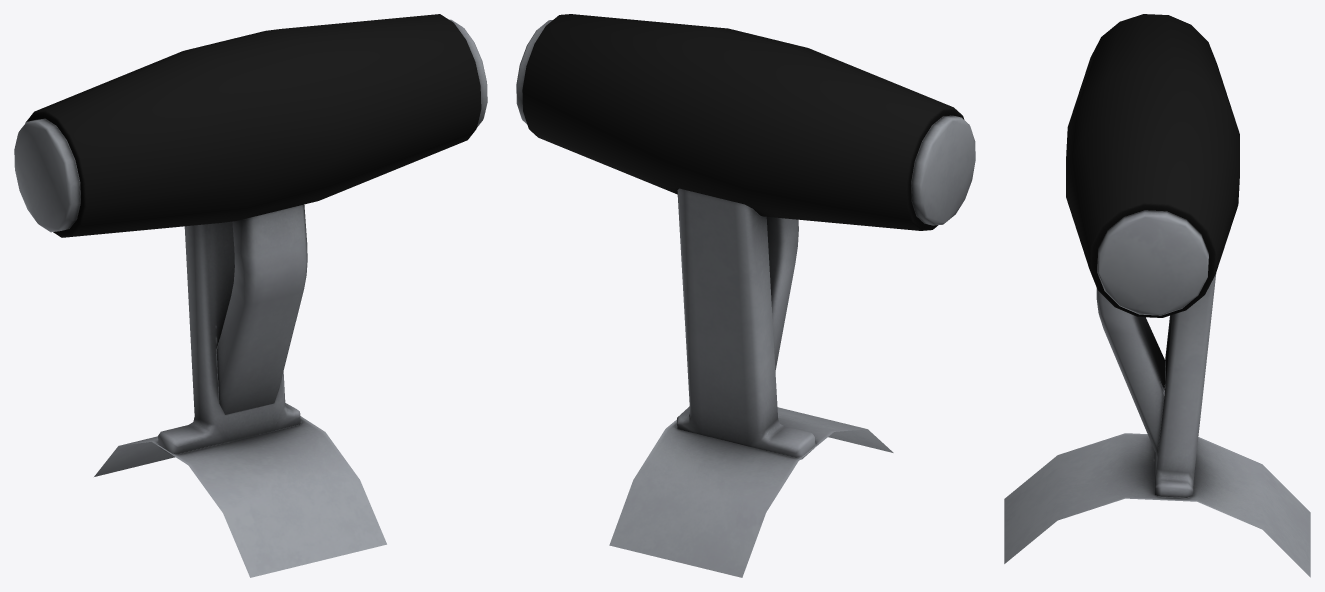
The model's file is Throttle.fbx.
3 views of the same model, side by side, from view 1: azimuth 30°, elevation 25°; view 2: azimuth 150°, elevation 25°; view 3: azimuth 270°, elevation 25° (orthographic). The views are drawn at different scales.
Parts seen in each view (by area): view 1: Throttle, Throttle_1; view 2: Throttle, Throttle_1; view 3: Throttle, Throttle_1.
Part boxes in pixels (x1,y1,x2,y2): Throttle: (14,14,487,454); Throttle_1: (94,416,386,577); Throttle: (516,14,975,459); Throttle_1: (609,407,893,577); Throttle: (1066,14,1239,497); Throttle_1: (1004,433,1310,577).
Bounding box in the file's own units: 9.66 × 10.41 × 6.26.
